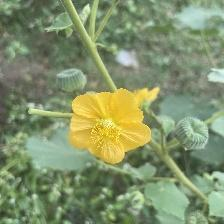indian mallow: (69, 90, 154, 166)
